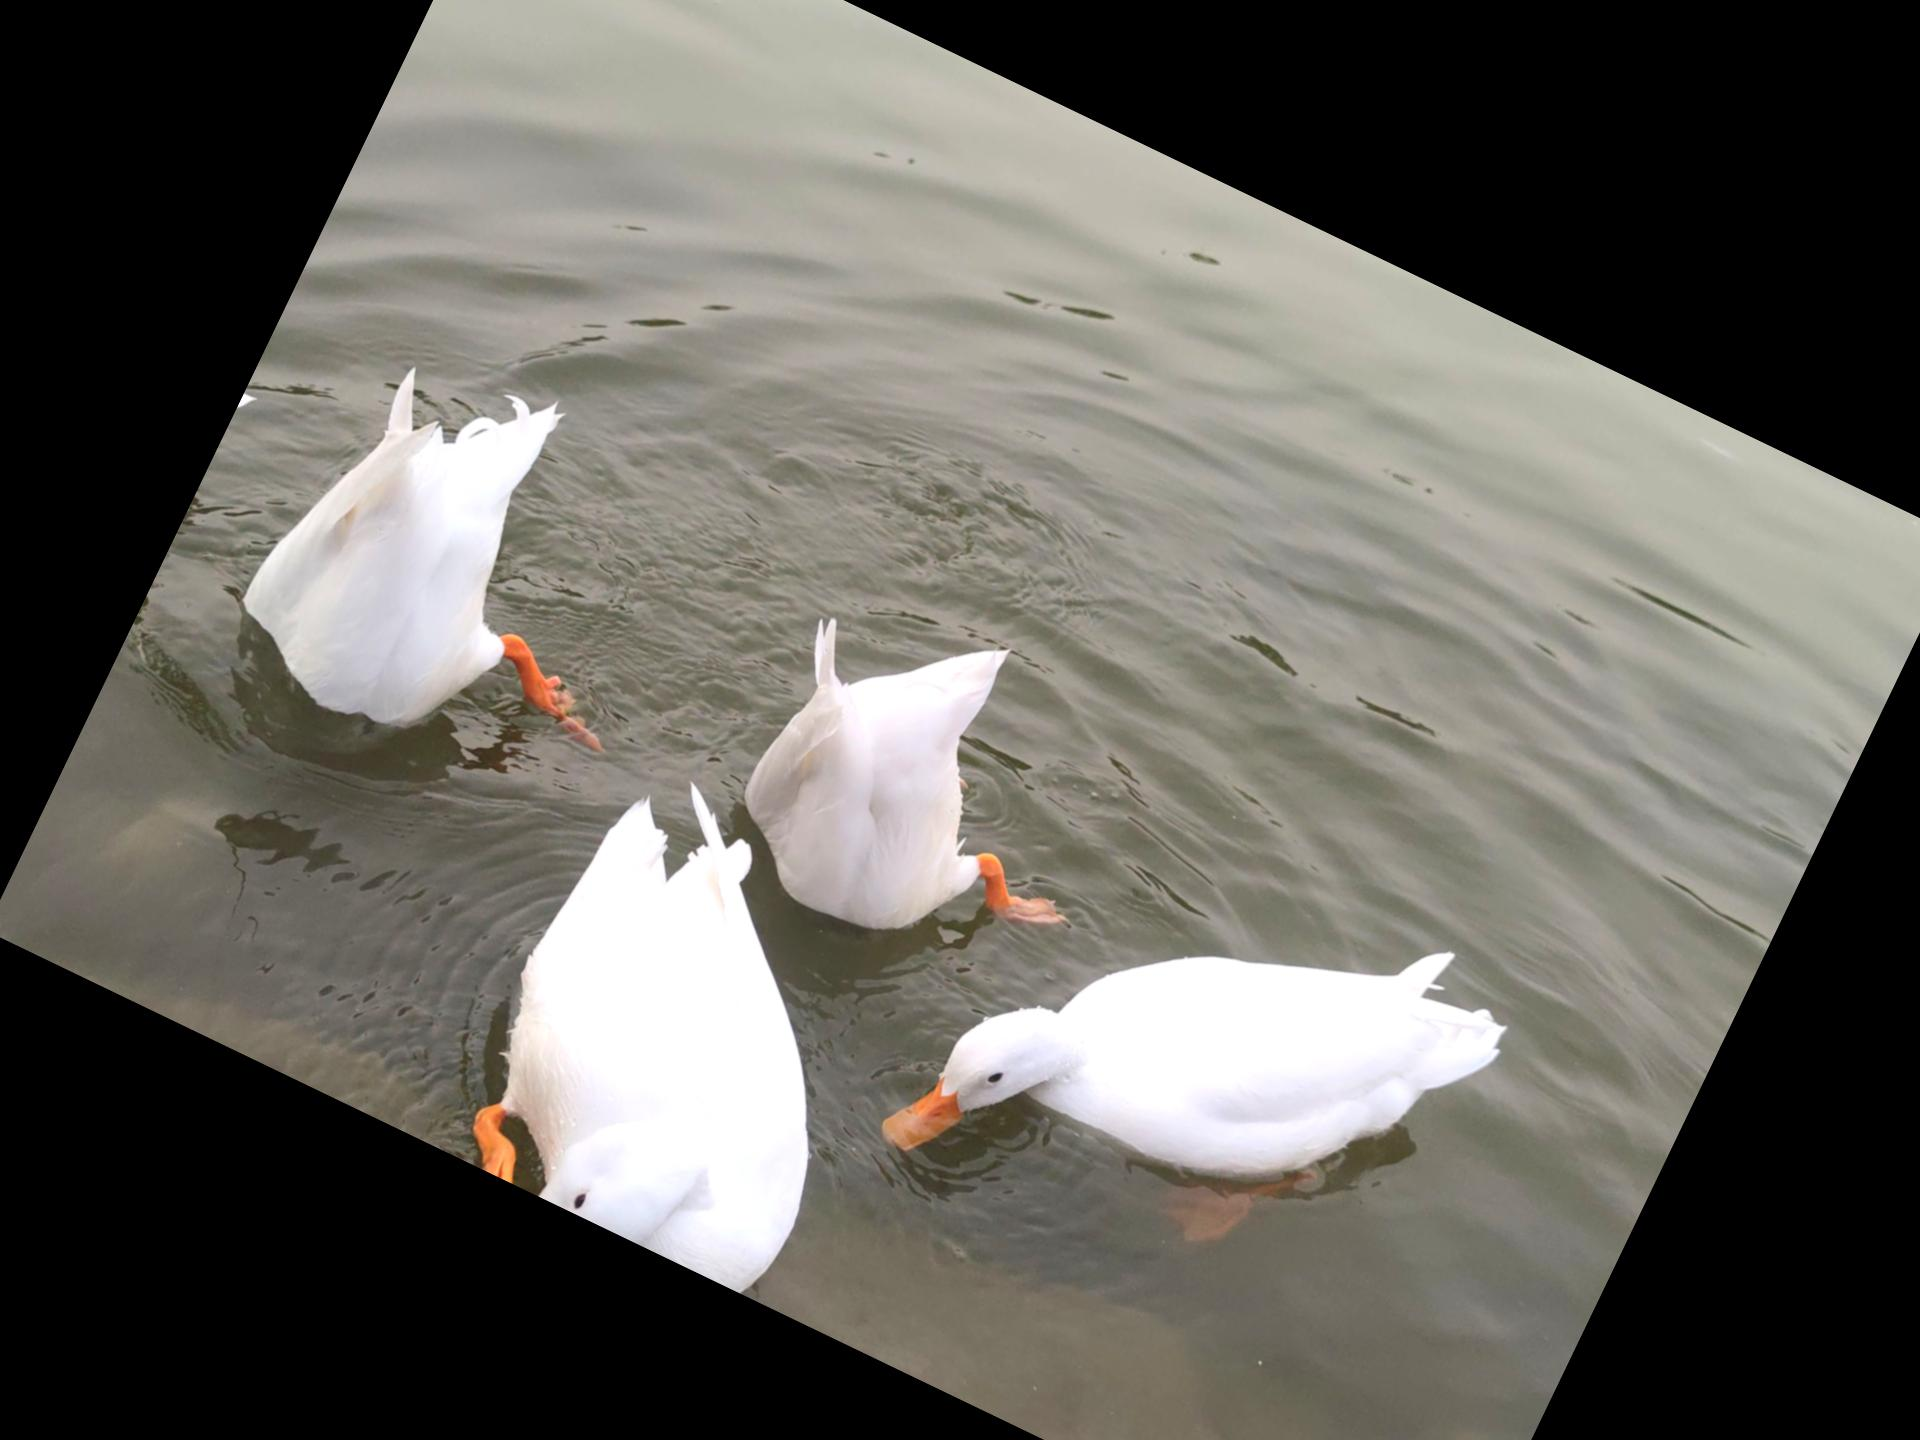duck: (854, 743, 1556, 1392), (413, 725, 986, 1316), (210, 293, 750, 835), (667, 529, 1182, 1023)
